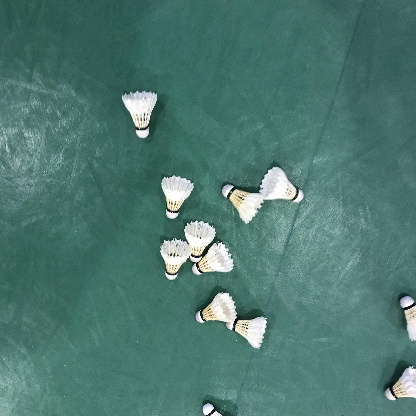ball_single: (222, 184, 265, 224), (122, 90, 157, 139), (258, 166, 304, 202), (161, 175, 194, 219), (192, 242, 234, 275), (226, 316, 267, 349), (184, 220, 216, 262), (160, 238, 191, 280), (195, 292, 237, 323), (385, 366, 416, 400), (400, 296, 416, 341), (202, 403, 222, 416)
